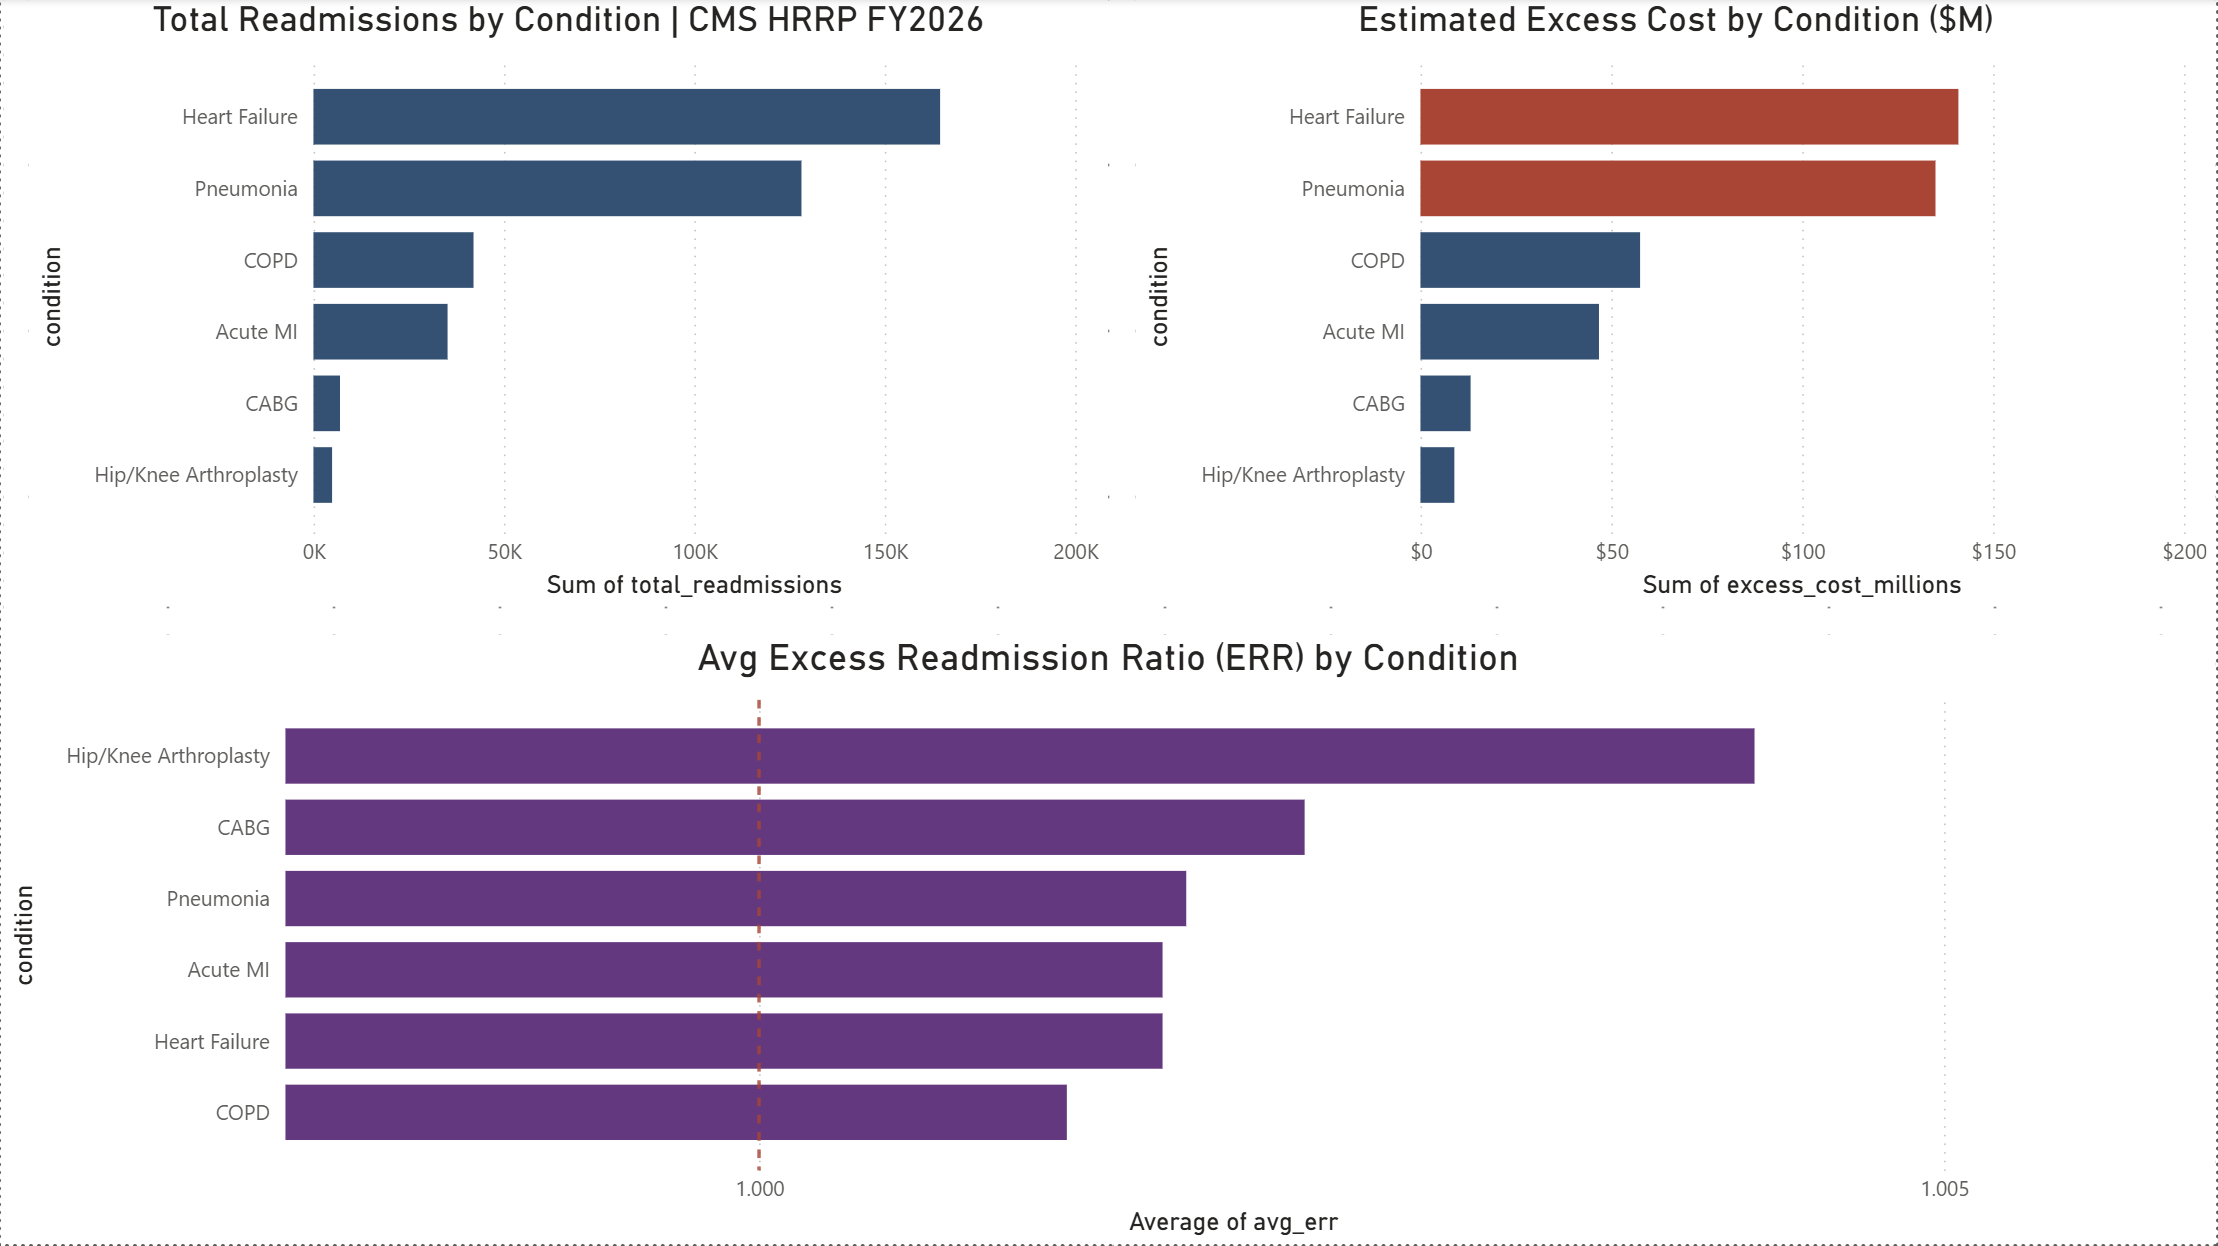

Layout of this report page (visuals, bound fields, positions):
{"tool":"powerbi","page":{"name":"Condition Analysis","canvas":[1280,720],"ordinal":1},"visuals":[{"type":"clusteredBarChart","title":"Total Readmissions by Condition | CMS HRRP FY2026","fields":{"Category":["vw_condition_summary.condition"],"Y":["Sum(vw_condition_summary.total_readmissions)"]},"box":[0,0,640,352],"z":0},{"type":"clusteredBarChart","title":"Estimated Excess Cost by Condition ($M)","fields":{"Category":["vw_condition_summary.condition"],"Y":["Sum(vw_condition_summary.excess_cost_millions)"]},"box":[640,0,640,352],"z":1000},{"type":"clusteredBarChart","title":"Avg Excess Readmission Ratio (ERR) by Condition","fields":{"Category":["vw_condition_summary.condition"],"Y":["Avg(vw_condition_summary.avg_err)"]},"box":[0,368,1280,352],"z":2000}]}

Visuals, with their boxes in screenshot pixels (x1, y1, x2, y2), scaled from the page's 1280x720 canvas onto the 2218x1246 screenshot:
"Total Readmissions by Condition | CMS HRRP FY2026" clusteredBarChart: rect(0, 0, 1109, 609)
"Estimated Excess Cost by Condition ($M)" clusteredBarChart: rect(1109, 0, 2217, 609)
"Avg Excess Readmission Ratio (ERR) by Condition" clusteredBarChart: rect(0, 637, 2217, 1245)
